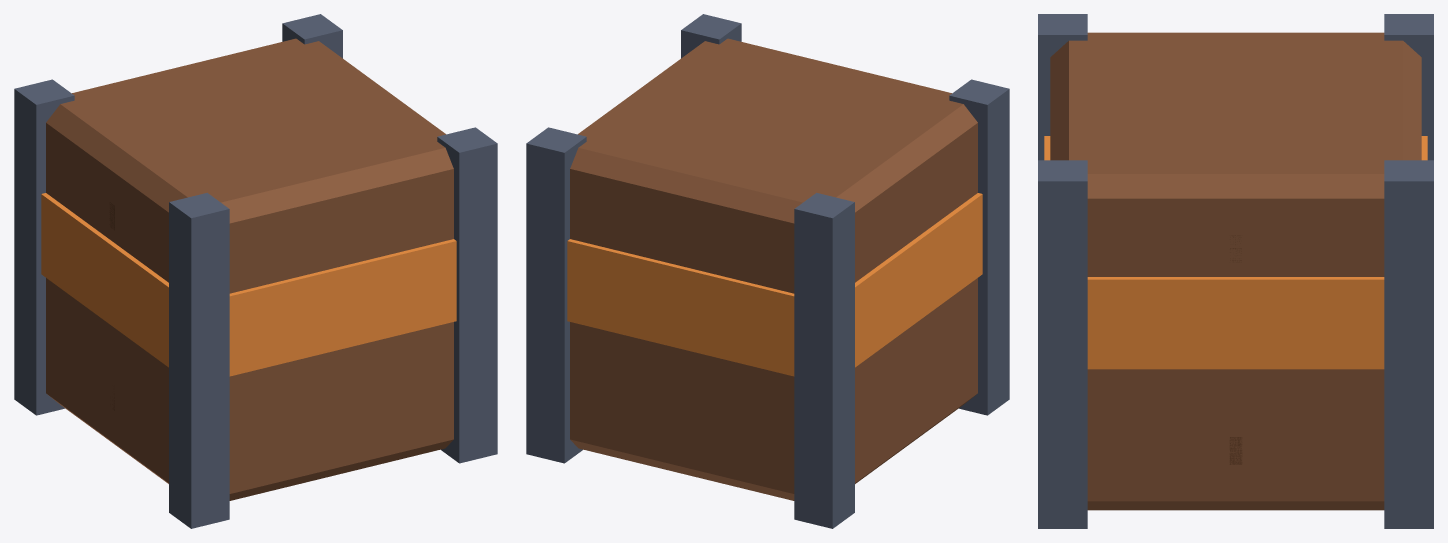
File: SM_Product_Crate.fbx
3 views of the same model, side by side, from view 1: azimuth 30°, elevation 25°; view 2: azimuth 150°, elevation 25°; view 3: azimuth 270°, elevation 25° (orthographic). The views are drawn at different scales.
Parts seen in each view (by area): view 1: SM_Product_Crate; view 2: SM_Product_Crate; view 3: SM_Product_Crate.
Boxes of the visible parts, box(x1,y1,x2,y2) form: SM_Product_Crate: box(14, 14, 497, 528); SM_Product_Crate: box(526, 14, 1009, 528); SM_Product_Crate: box(1038, 14, 1433, 528).
Bounding box in the file's own units: 0.64 × 0.62 × 0.64.
